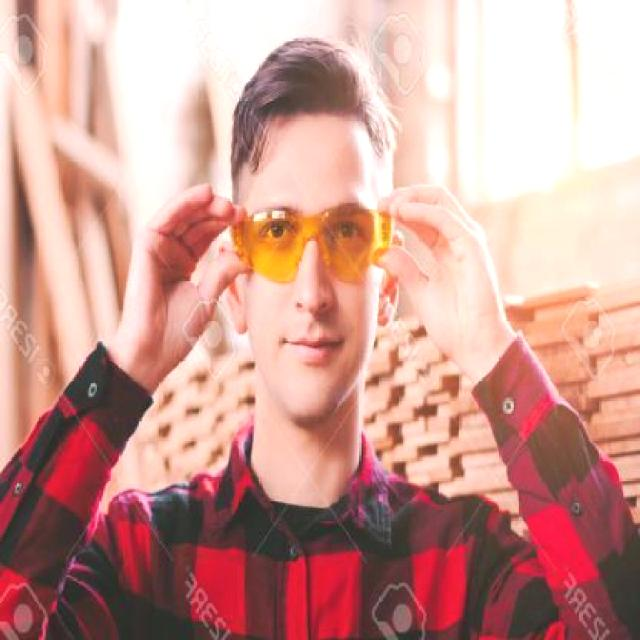face_nomask: (250, 212, 372, 377)
glasses: (235, 201, 399, 290)
hand_noglove: (103, 182, 257, 387), (366, 176, 516, 369)
head_nohelmet: (232, 32, 402, 152)
person: (95, 35, 554, 640)
